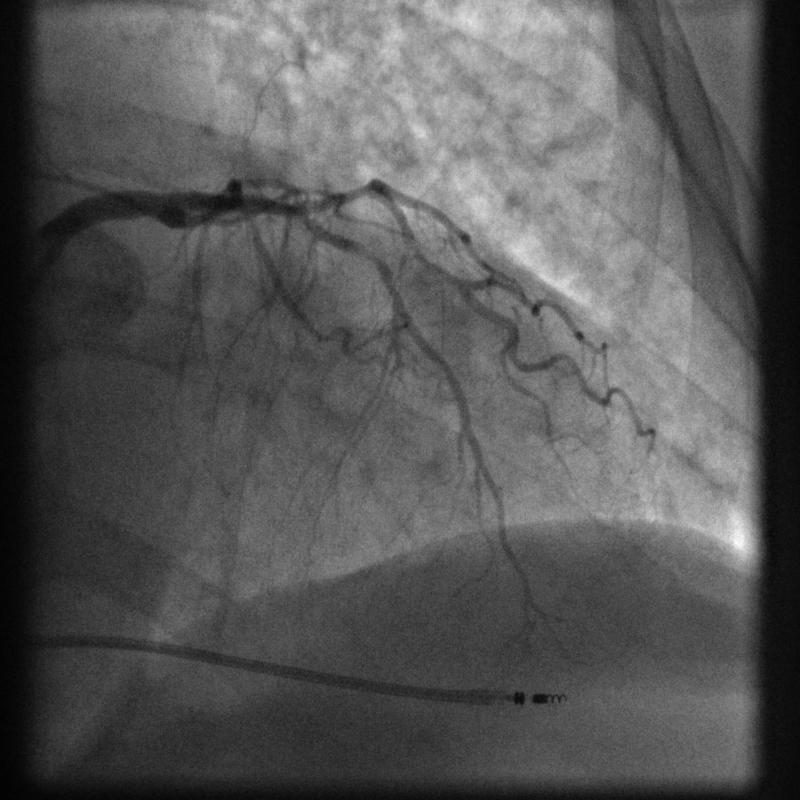Stenosis: (346, 237, 389, 278)
